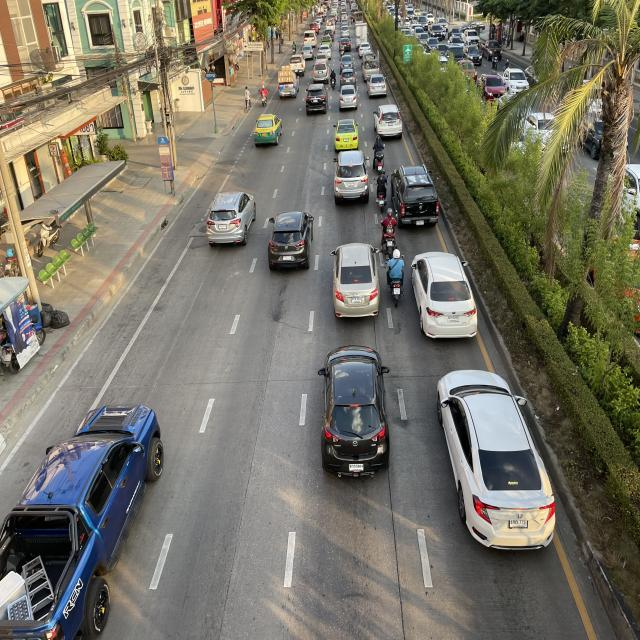bike: (378, 204, 402, 263), (386, 244, 408, 307), (372, 167, 391, 214), (369, 129, 388, 176)
car: (433, 360, 562, 554), (310, 334, 400, 484), (264, 202, 318, 281), (200, 184, 260, 250)
truck: (0, 395, 167, 640), (276, 62, 300, 102)
